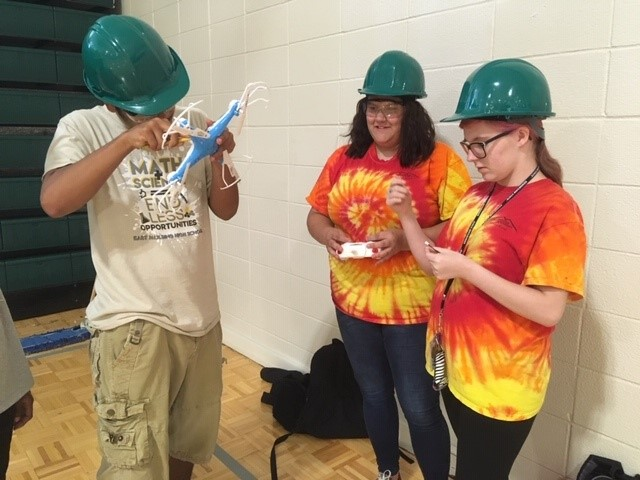face_no_mask: (457, 108, 534, 188), (358, 91, 417, 151)
